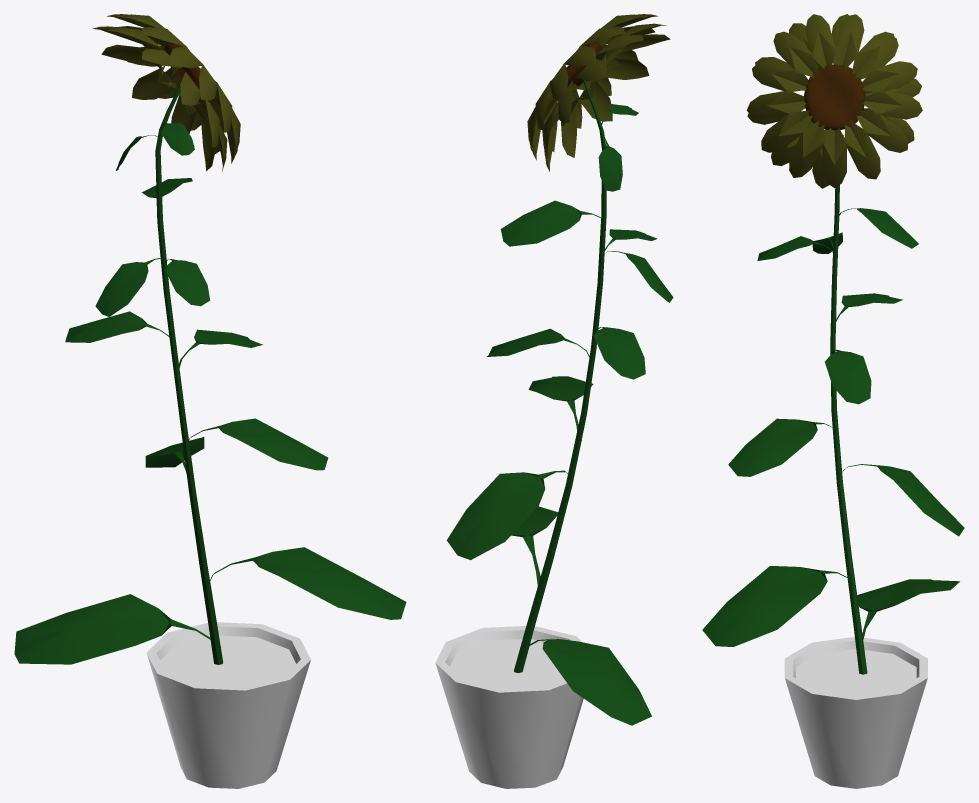
The model's file is Decor.fbx.
3 views of the same model, side by side, from view 1: azimuth 30°, elevation 25°; view 2: azimuth 150°, elevation 25°; view 3: azimuth 270°, elevation 25° (orthographic). The views are drawn at different scales.
Parts seen in each view (by area): view 1: Null_1, Cylinder, Cylinder_1; view 2: Null_1, Cylinder, Cylinder_1; view 3: Null_1, Cylinder, Cylinder_1.
Part boxes in pixels (box(x1,y1,x2,y2)): Null_1: box(14, 14, 406, 664); Cylinder: box(146, 622, 310, 788); Cylinder_1: box(160, 635, 295, 686); Null_1: box(446, 14, 673, 725); Cylinder: box(435, 626, 583, 788); Cylinder_1: box(450, 639, 563, 688); Null_1: box(702, 14, 964, 674); Cylinder: box(784, 637, 927, 788); Cylinder_1: box(796, 649, 916, 695).
Bounding box in the file's own units: 79.16 × 208 × 69.82.
